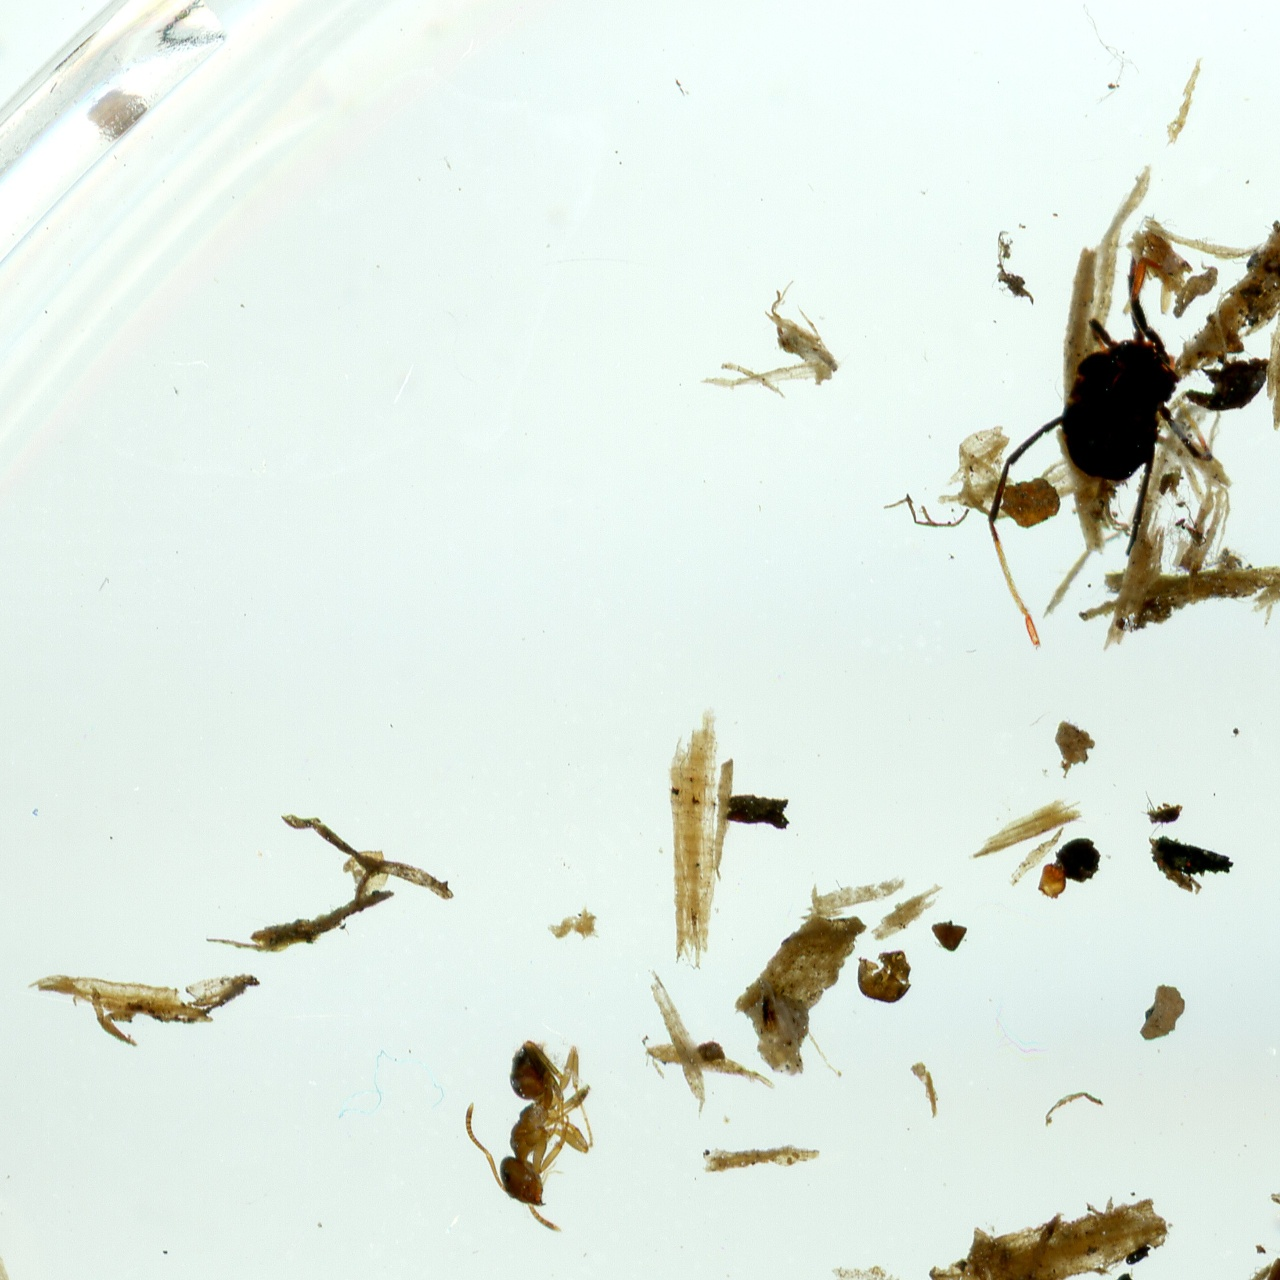arthropod: (981, 218, 1217, 654), (459, 1033, 598, 1239)
